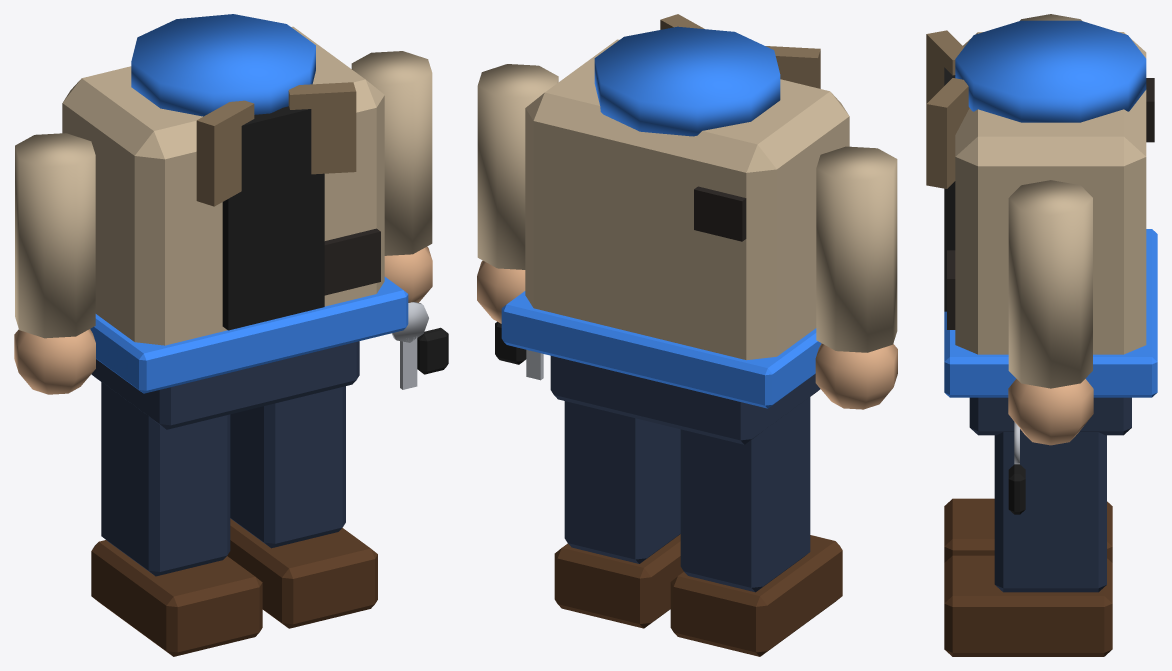
Rendered from taritPilot.glb.
3 renders of one model, left to right at view 1: azimuth 30°, elevation 25°; view 2: azimuth 150°, elevation 25°; view 3: azimuth 270°, elevation 25°, orthographic.
Visible parts, largest first — view 1: torso, thigh_L, tee, upperarm_L, thigh_R, collar, belt, shoe_L, upperarm_R, shoe_R, hips, collar_flap_R (+7 smaller); view 2: torso, thigh_L, collar, upperarm_L, thigh_R, belt, shoe_L, upperarm_R, hips, shoe_R, hand_L, soot_2 (+3 smaller); view 3: torso, upperarm_R, thigh_R, collar, shoe_R, belt, hand_R, collar_flap_R, shoe_L, hips, collar_flap_L, tee (+3 smaller).
Boxes of the visible parts, bbox=[...] form: torso: bbox=[62, 26, 384, 345]; thigh_L: bbox=[101, 382, 230, 576]; tee: bbox=[222, 106, 324, 330]; upperarm_L: bbox=[15, 133, 95, 338]; thigh_R: bbox=[230, 386, 345, 548]; collar: bbox=[131, 14, 315, 116]; belt: bbox=[90, 276, 408, 393]; shoe_L: bbox=[91, 540, 262, 656]; upperarm_R: bbox=[351, 51, 432, 255]; shoe_R: bbox=[227, 518, 377, 628]; hips: bbox=[91, 341, 359, 429]; collar_flap_R: bbox=[288, 82, 356, 174]; torso: bbox=[525, 39, 849, 360]; thigh_L: bbox=[680, 397, 810, 592]; collar: bbox=[594, 26, 780, 136]; upperarm_L: bbox=[816, 146, 897, 352]; thigh_R: bbox=[564, 401, 680, 563]; belt: bbox=[501, 291, 821, 408]; shoe_L: bbox=[670, 535, 842, 656]; upperarm_R: bbox=[477, 64, 558, 269]; hips: bbox=[550, 356, 820, 444]; shoe_R: bbox=[554, 534, 683, 628]; hand_L: bbox=[815, 343, 897, 409]; soot_2: bbox=[694, 186, 746, 241]; torso: bbox=[955, 32, 1146, 354]; upperarm_R: bbox=[1008, 180, 1092, 388]; thigh_R: bbox=[994, 432, 1106, 592]; collar: bbox=[955, 20, 1146, 122]; shoe_R: bbox=[944, 555, 1112, 656]; belt: bbox=[944, 229, 1157, 397]; hand_R: bbox=[1008, 379, 1093, 445]; collar_flap_R: bbox=[926, 78, 969, 188]; shoe_L: bbox=[944, 498, 1112, 562]; hips: bbox=[969, 397, 1131, 435]; collar_flap_L: bbox=[926, 30, 963, 103]; tee: bbox=[944, 67, 955, 311].
Bounding box in the file's own units: 0.8561 × 1.08 × 0.4118.
